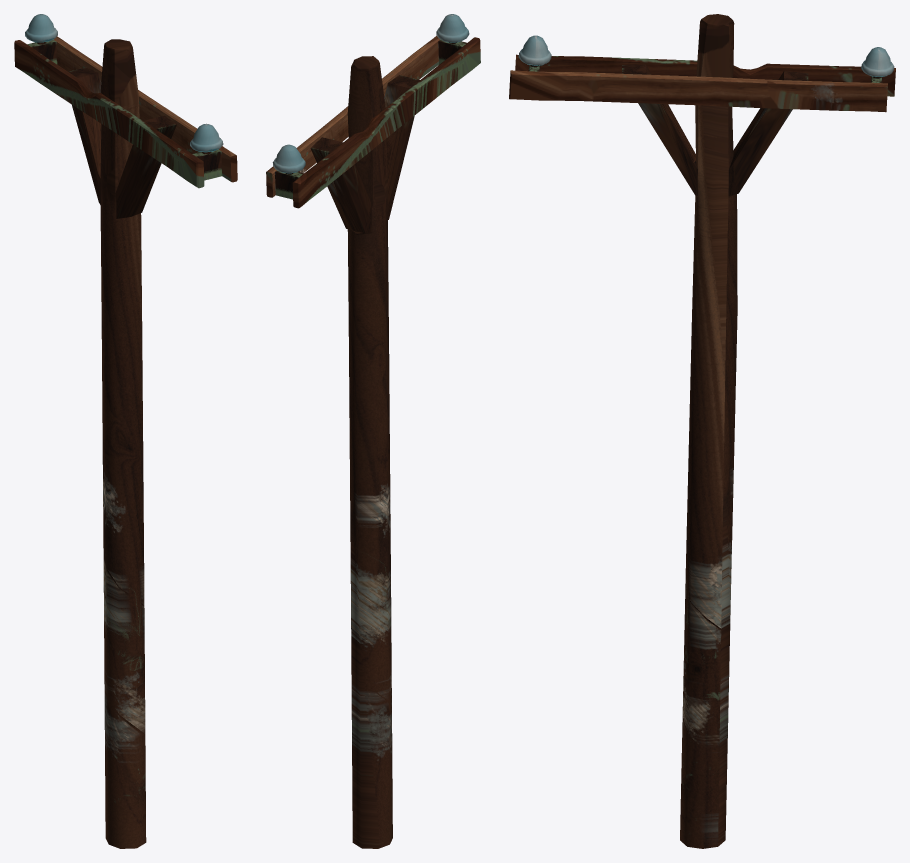
File: telePole.fbx
3 renders of one model, left to right at view 1: azimuth 30°, elevation 25°; view 2: azimuth 150°, elevation 25°; view 3: azimuth 270°, elevation 25°, orthographic. The views are drawn at different scales.
Visible parts, largest first — view 1: TelephonePole_; view 2: TelephonePole_; view 3: TelephonePole_.
Part boxes in pixels (<box>): TelephonePole_: <box>14,14,237,848</box>; TelephonePole_: <box>266,14,480,848</box>; TelephonePole_: <box>509,14,895,848</box>.
Bounding box in the file's own units: 1.07 × 21.02 × 8.97.
1 material, 1 textured.
